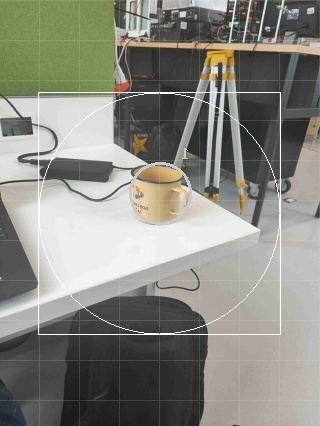Pelota blanca: (130, 161, 193, 227)
